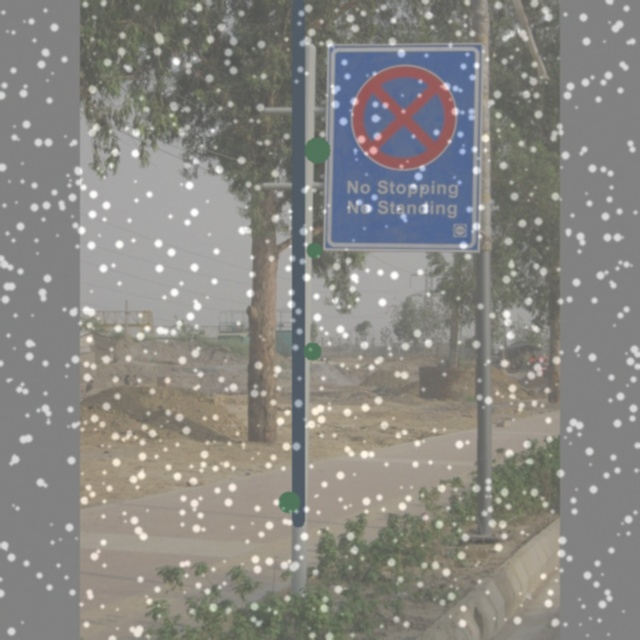No_Stopping_or_Standing: (343, 51, 463, 176)
